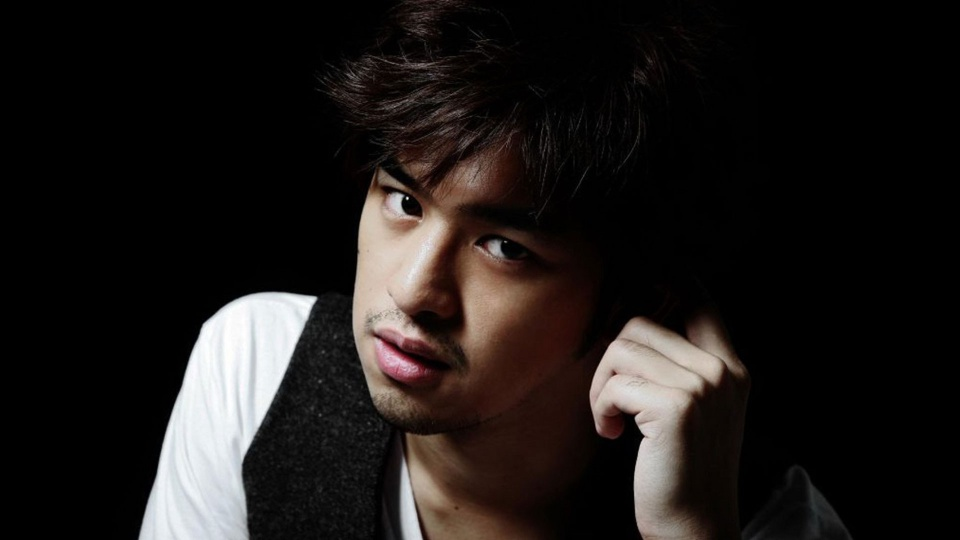male: (309, 36, 688, 444)
